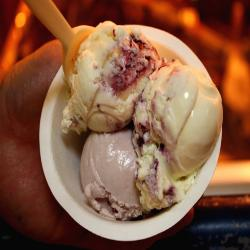icecream: (56, 24, 230, 231)
